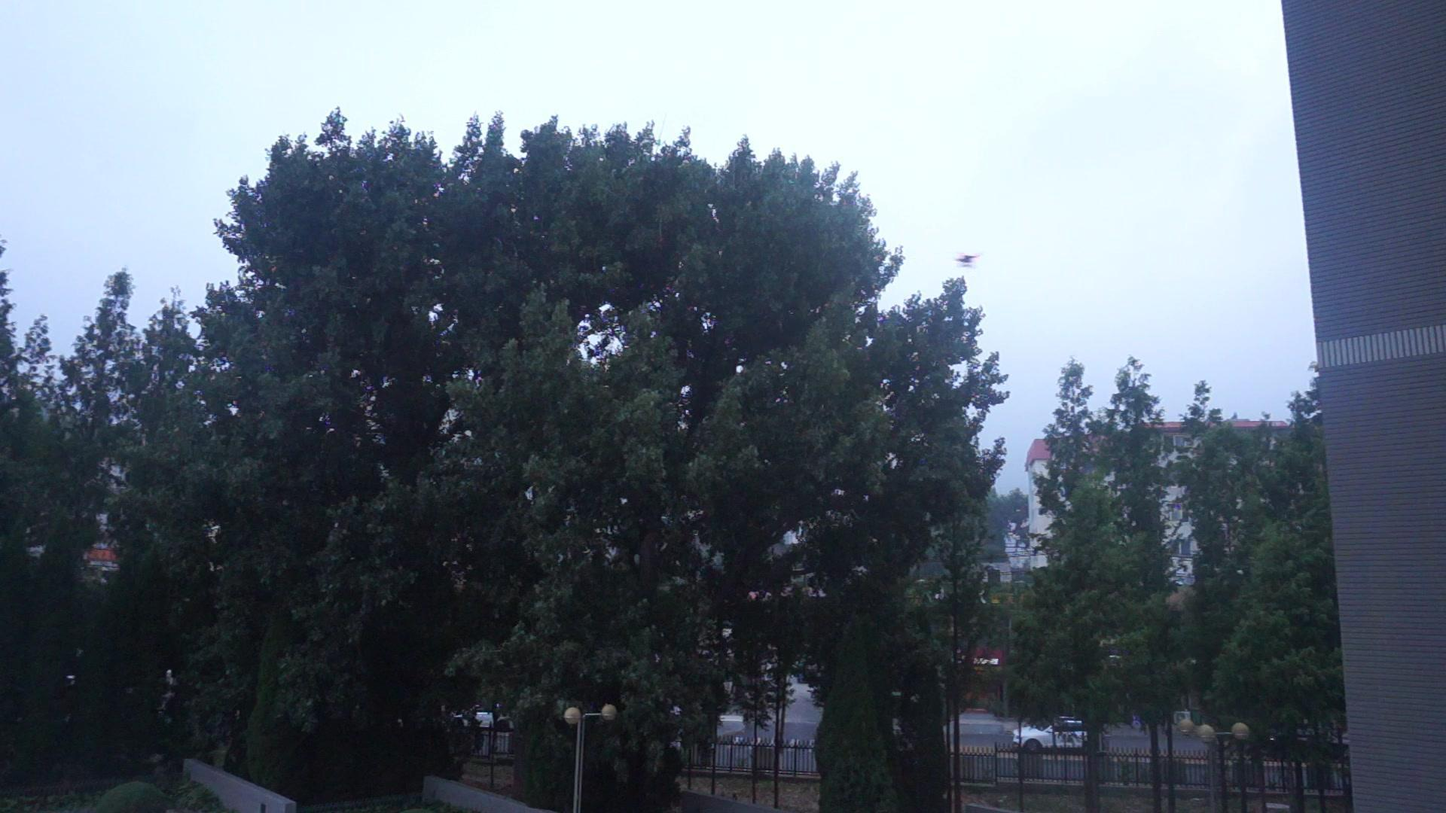UAV: (956, 254, 980, 267)
